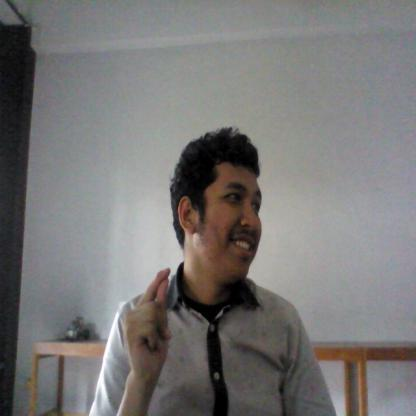R: (115, 264, 180, 382)
